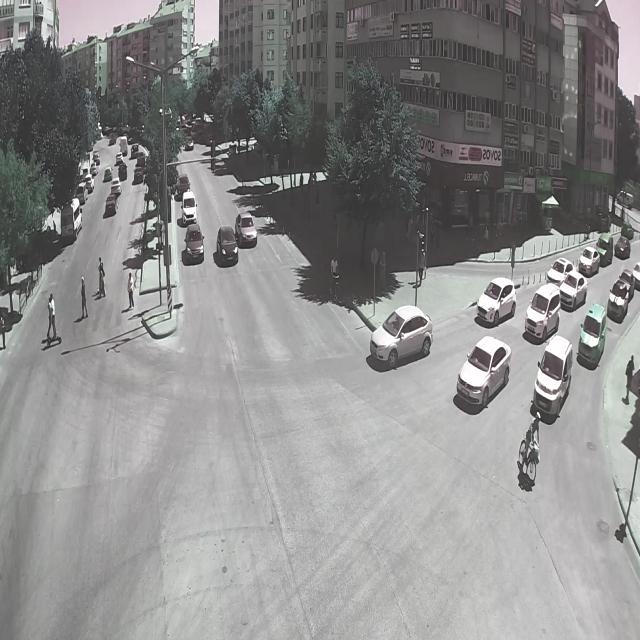Car: (369, 304, 434, 368), (457, 336, 512, 406), (532, 338, 574, 418), (526, 282, 563, 338), (477, 276, 518, 325), (579, 303, 609, 363), (607, 274, 634, 321), (558, 270, 588, 311), (216, 226, 239, 264), (546, 257, 575, 286), (235, 212, 258, 247), (184, 223, 205, 261), (578, 246, 601, 276), (180, 191, 198, 226), (614, 238, 630, 260), (175, 174, 191, 196), (83, 173, 95, 192), (110, 177, 121, 196), (103, 166, 113, 182), (92, 152, 101, 166), (130, 144, 140, 156), (184, 140, 194, 150), (115, 152, 123, 164)
Van: (61, 197, 82, 239)
